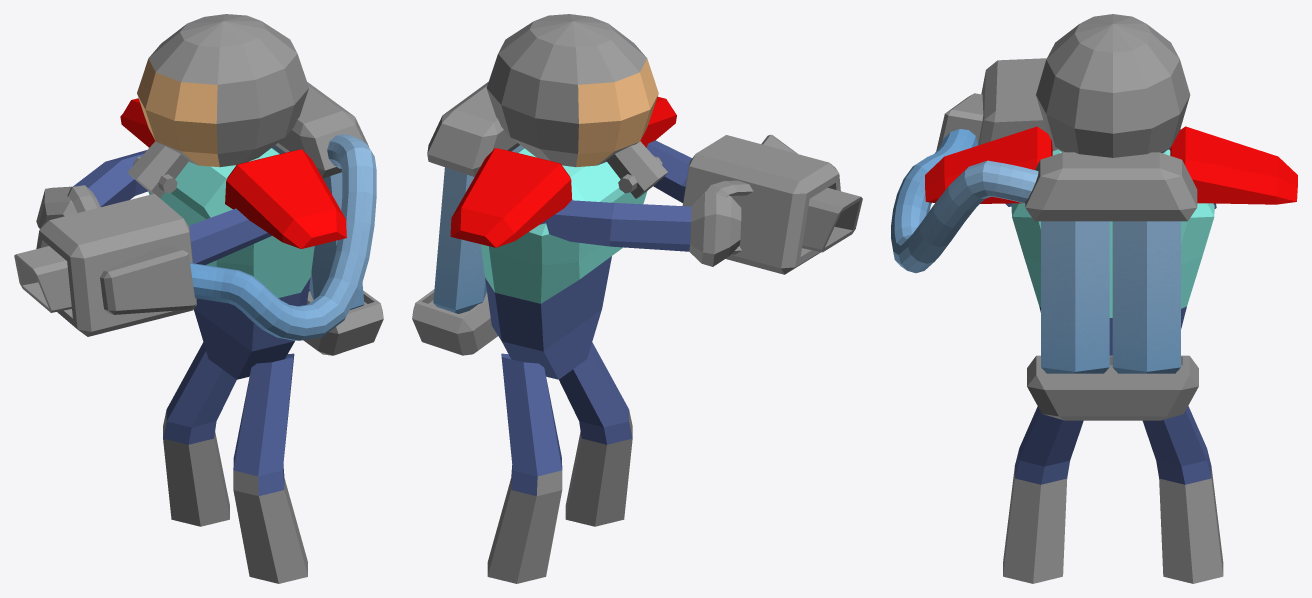
The model's file is Player.FBX.
3 renders of one model, left to right at view 1: azimuth 30°, elevation 25°; view 2: azimuth 150°, elevation 25°; view 3: azimuth 270°, elevation 25°, orthographic. The views are drawn at different scales.
Visible parts, largest first — view 1: Player; view 2: Player; view 3: Player.
Boxes of the visible parts, x1,y1,x2,y2 form: Player: [14, 14, 383, 583]; Player: [412, 14, 862, 583]; Player: [891, 14, 1297, 583].
Size of the model in its own units: 71.21 by 97.55 by 66.96.
